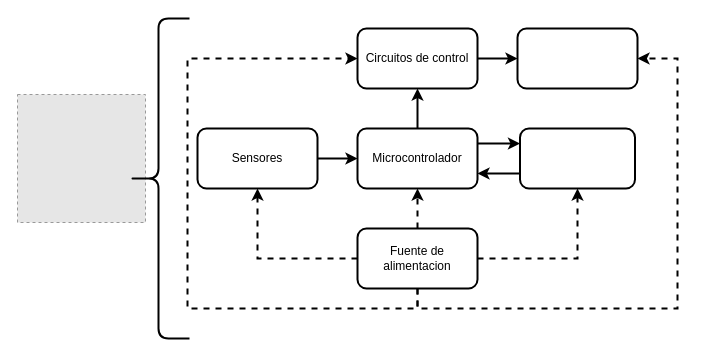
Some shapes in this 704 by 356 pixel diagram are drawn without their labels. Grey dashed boxes stand in for pictures. The centre of each missing label's shape, as x and y in pixels:
LEDs: point (577, 58)
Temporizadores: point (577, 158)
